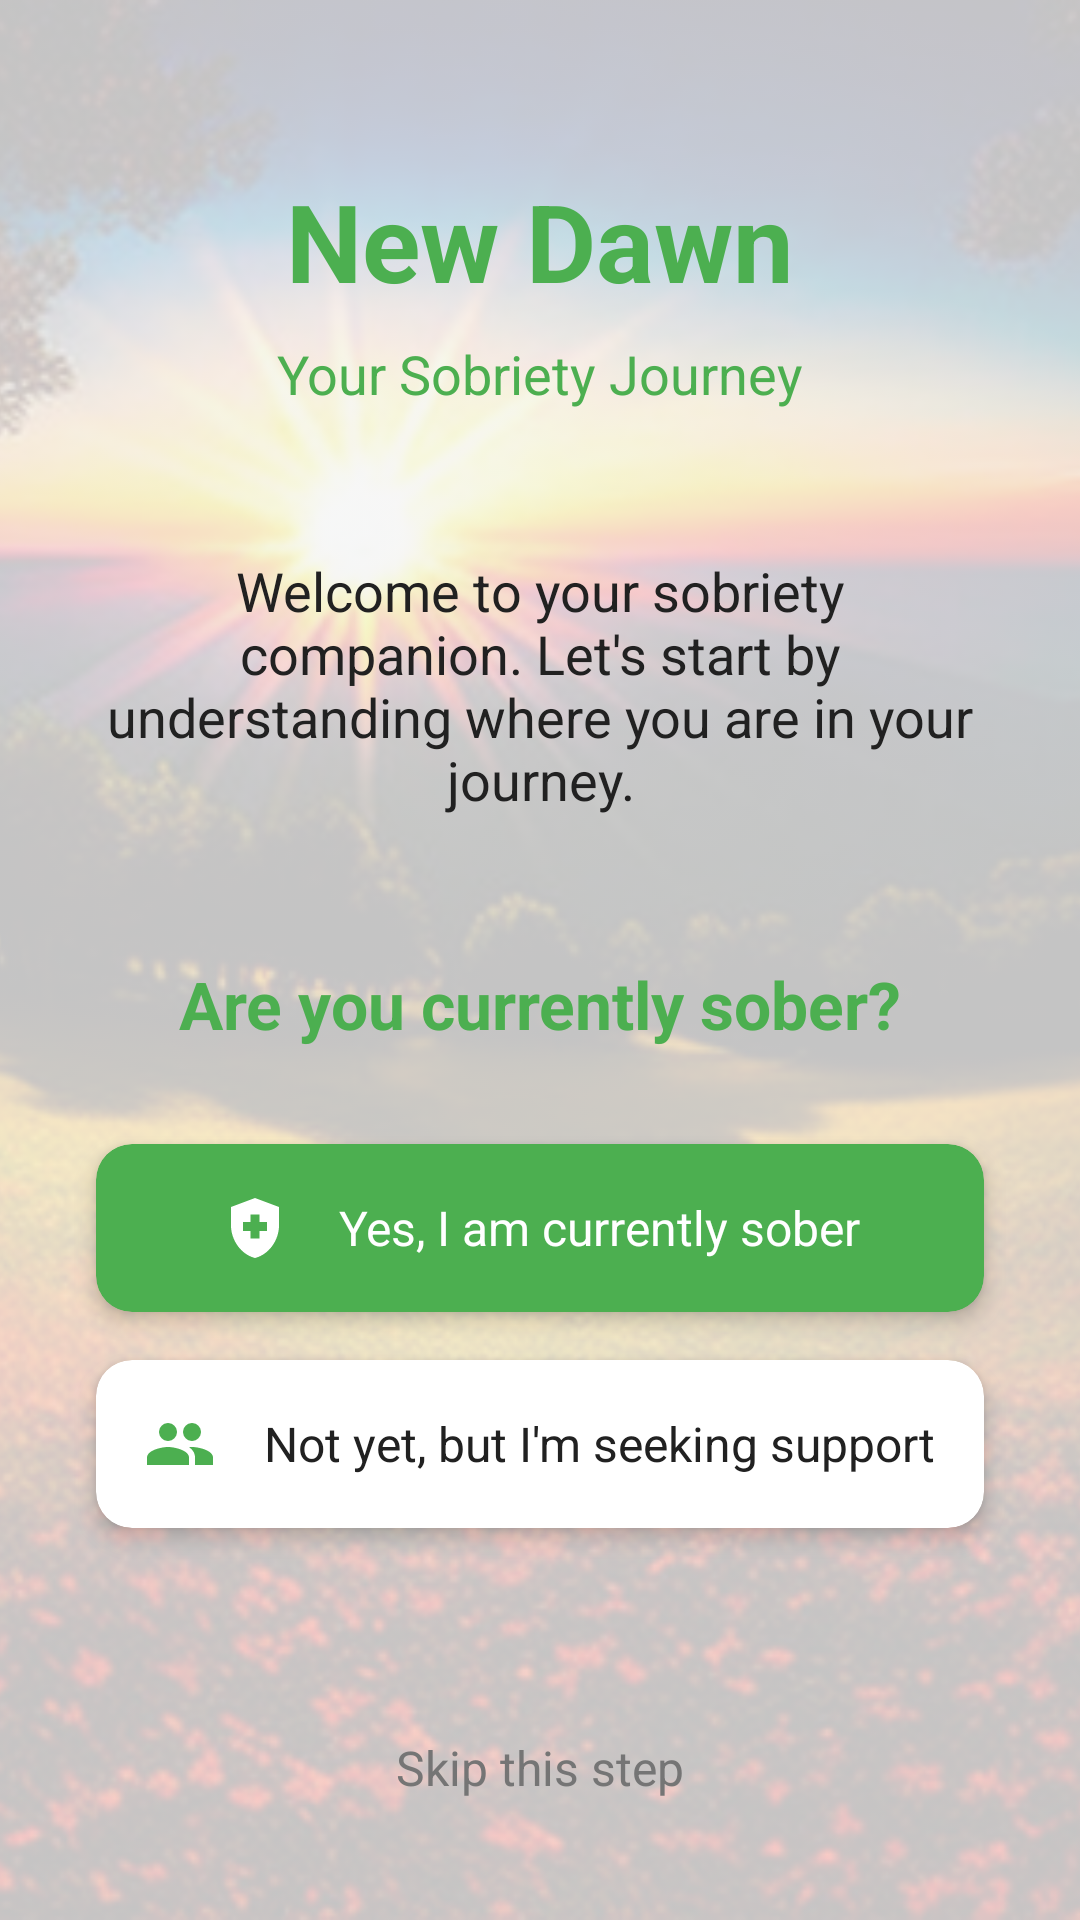

Icon bounding boxes for this 1080 x 1920 phone screenshot, format {"x1": x1, "y1": y1, "x2": x2, "y2": y2}:
community: {"x1": 147, "y1": 1423, "x2": 213, "y2": 1465}
health: {"x1": 231, "y1": 1198, "x2": 279, "y2": 1258}
